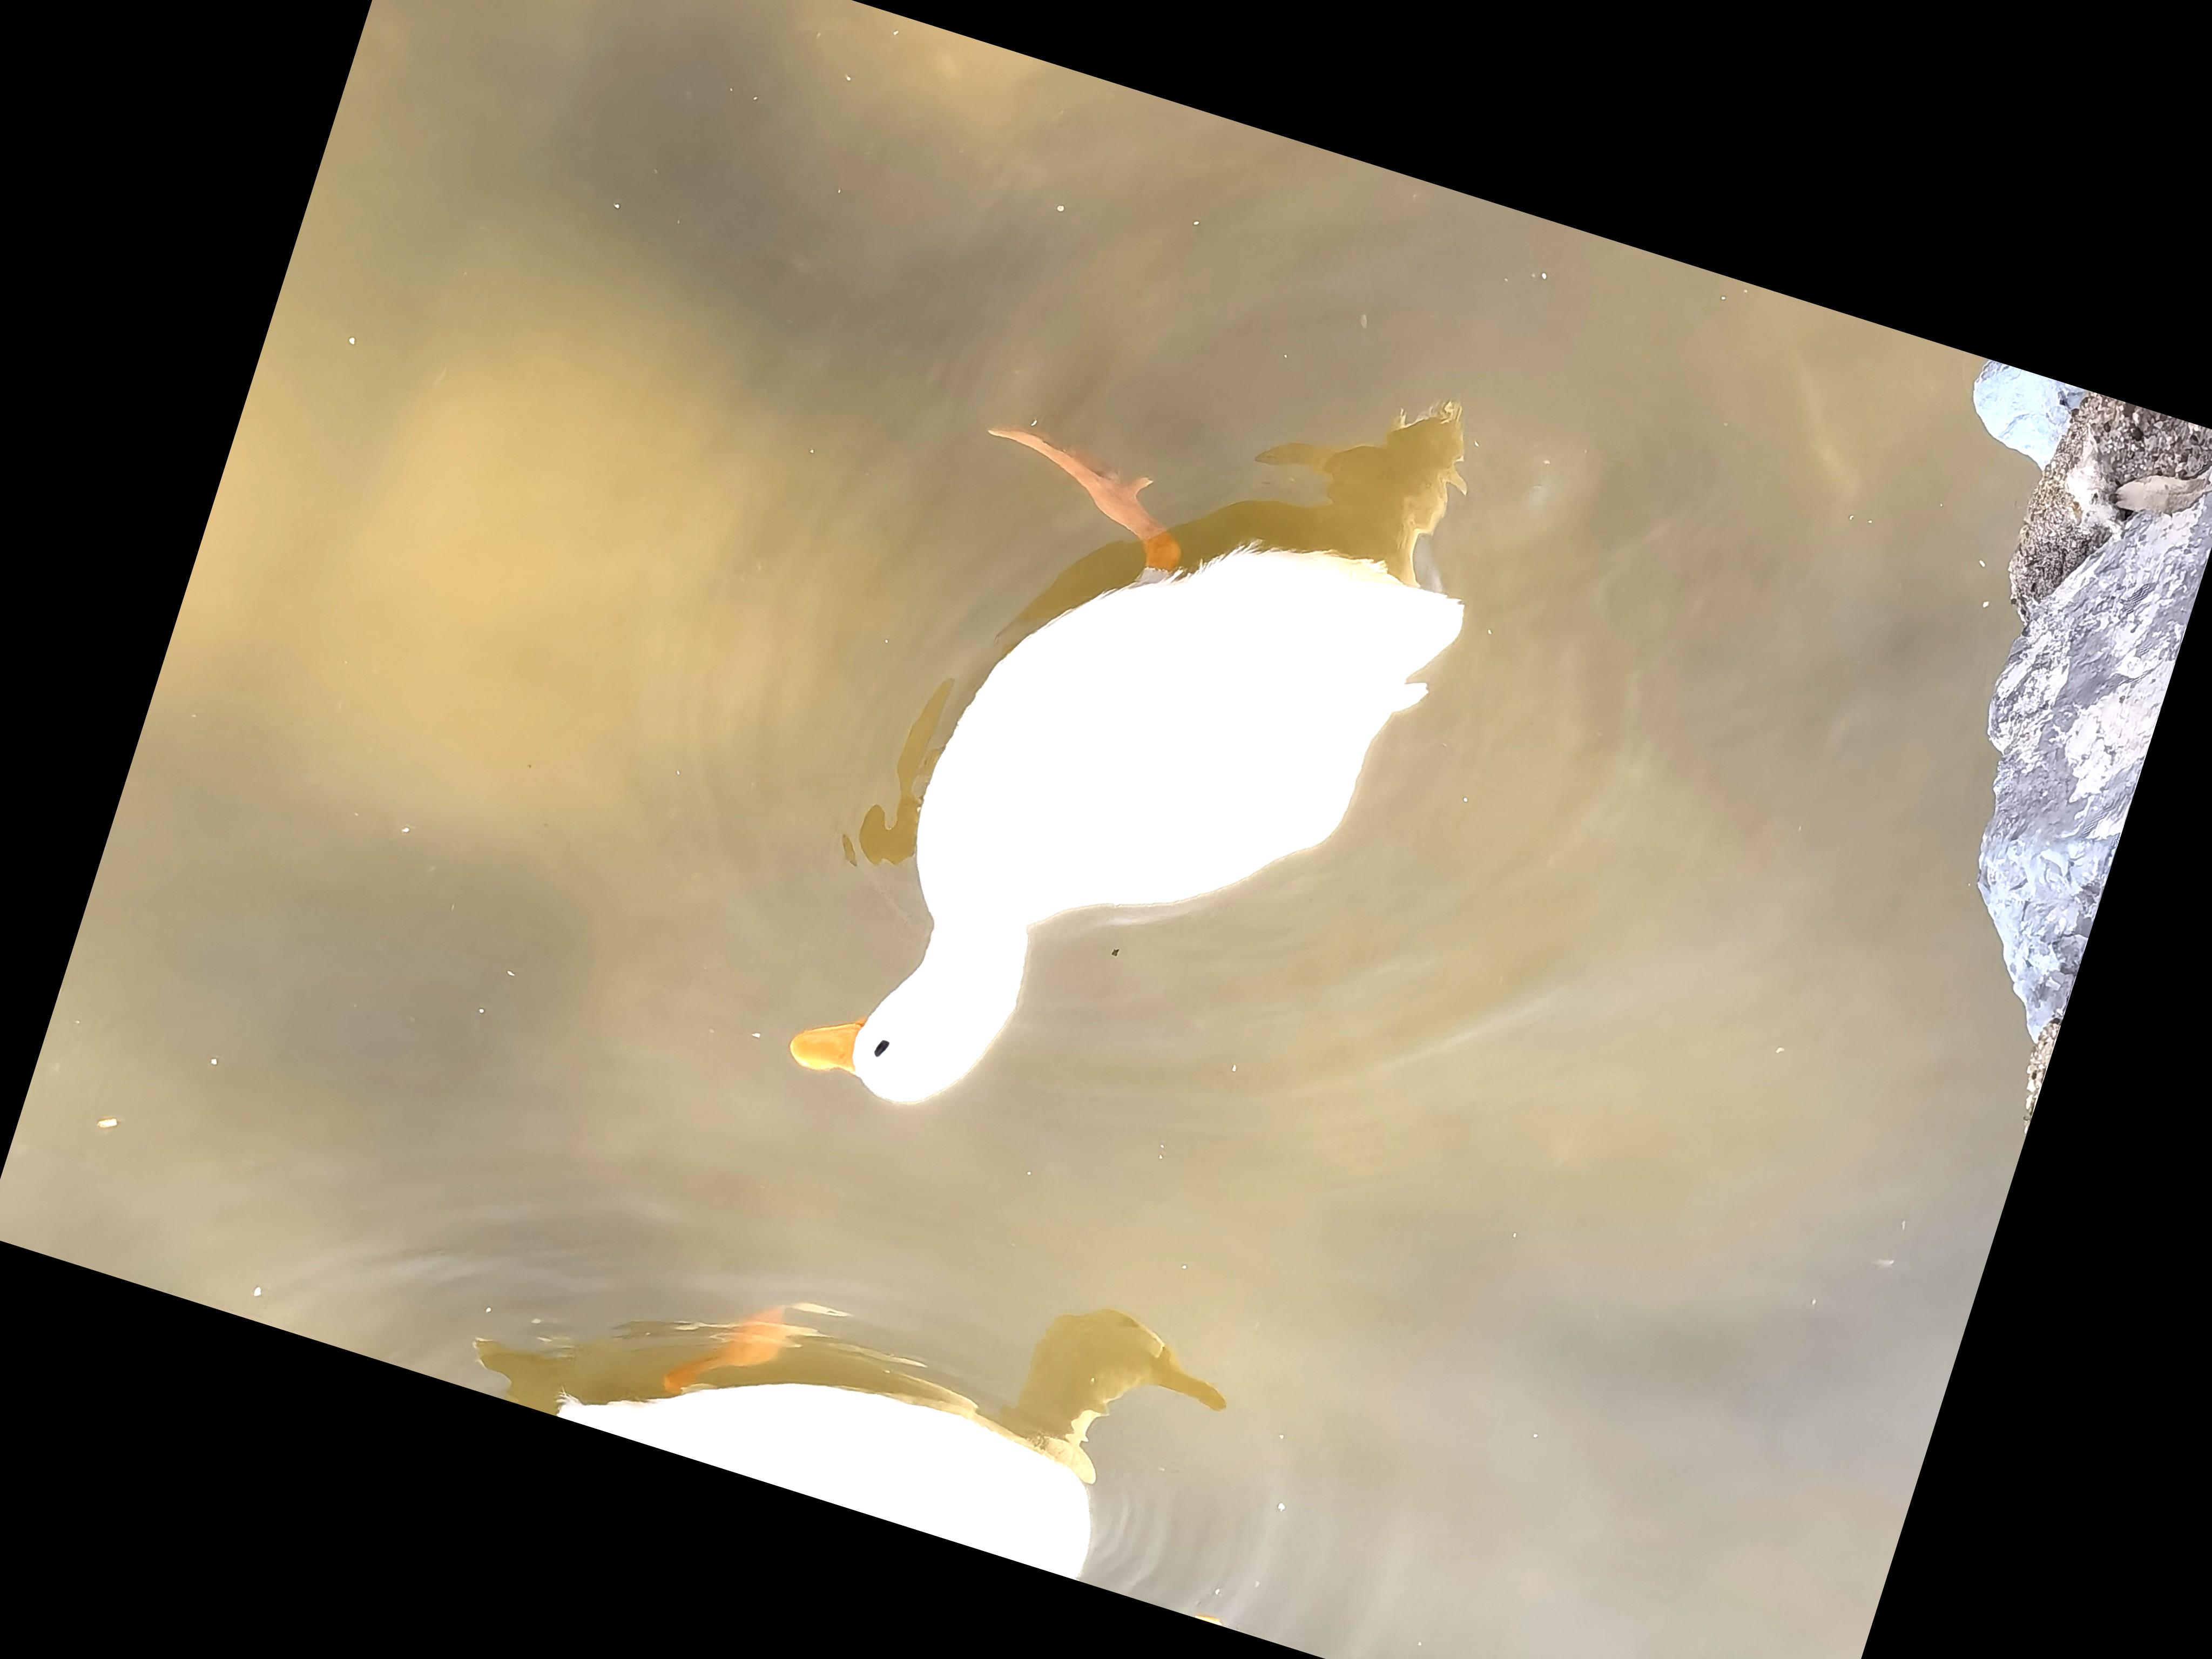duck: (728, 328, 1529, 1263), (493, 1129, 1247, 1607)
